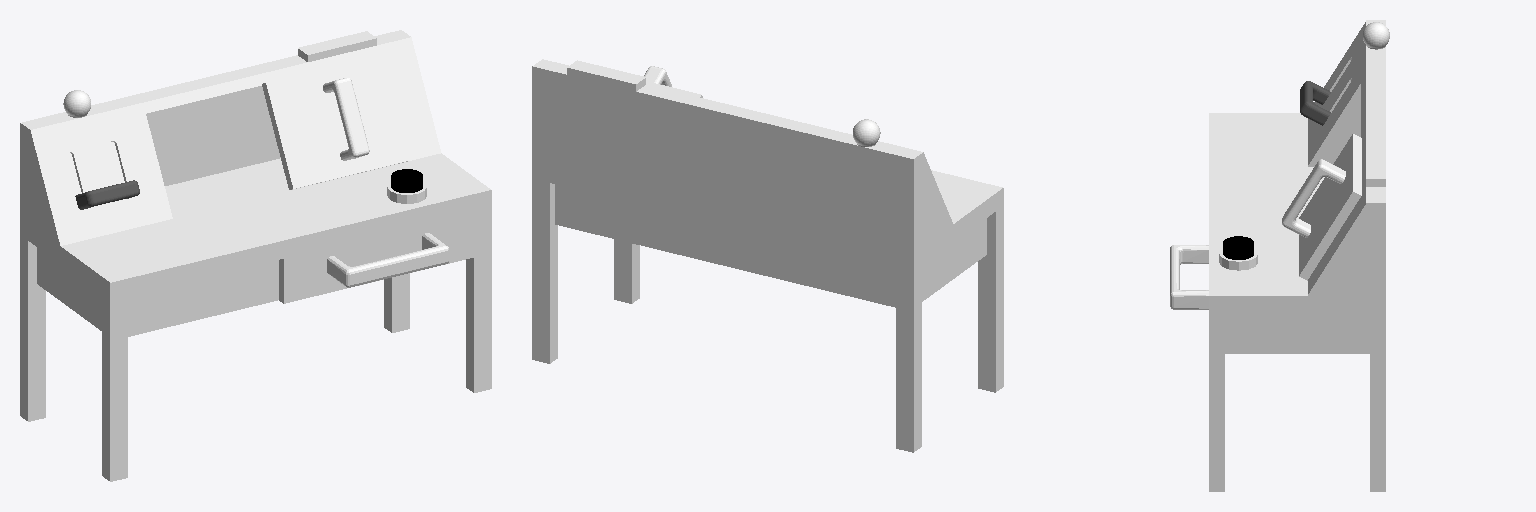
The robot description file, URDF, robot "playtable_5":
<?xml version="1.0" encoding="utf-8"?>
<robot
  name="playtable_5" concave="yes">
  <link
    name="base_link">
    <inertial>
      <origin
        xyz="-0.0591017040800947 0.501032855485917 -0.0450543406685957"
        rpy="0 0 0" />
      <mass
        value="0.0" />
        <!-- value="46.9509300649509" -->
      <inertia
        ixx="1.52184000058477"
        ixy="0.0432499304067387"
        ixz="0.0869673805899948"
        iyy="6.35510203625352"
        iyz="0.279082713309663"
        izz="6.17644505372571" />
    </inertial>
    <visual>
      <origin
        xyz="0 0 0"
        rpy="0 0 0" />
      <geometry>
        <mesh
          filename="../meshes/base_link.obj" />
      </geometry>
      <material name="white">
       <color rgba="1 1 1 1"/>
     </material>
    </visual>
    <collision concave="yes">
      <origin
        xyz="0 0 0"
        rpy="0 0 0" />
      <geometry>
        <mesh
          filename="../meshes/base_link.obj" />
      </geometry>
    </collision>
  </link>
  <link
    name="button_link">
    <inertial>
      <origin
        xyz="-5.55111512312578E-17 0.0149999999999999 -2.77555756156289E-17"
        rpy="0 0 0" />
      <mass
        value="0.153812376319756" />
      <inertia
        ixx="7.30608787518843E-05"
        ixy="-1.78342506783922E-37"
        ixz="0"
        iyy="0.000123049901055805"
        iyz="-3.74688824324604E-37"
        izz="7.30608787518843E-05" />
    </inertial>
    <visual>
      <origin
        xyz="0 0 0"
        rpy="0 0 0" />
      <geometry>
        <mesh
          filename="../meshes/button_link.STL" />
      </geometry>
      <material
        name="black">
        <color
          rgba="0.0 0.0 0.0 1" />
      </material>
    </visual>
    <collision>
      <origin
        xyz="0 0 0"
        rpy="0 0 0" />
      <geometry>
        <mesh
          filename="../meshes/button_link.STL" />
      </geometry>
    </collision>
  </link>
  <joint
    name="base__button"
    type="prismatic">
    <origin
      xyz="0.35 -0.15 0.575"
      rpy="1.5708 0 0" />
    <parent
      link="base_link" />
    <child
      link="button_link" />
    <axis
      xyz="0 -1 0" />
    <limit
      lower="0"
      upper="0.025"
      effort="0"
      velocity="0" />
  </joint>
  <link
    name="switch_link">
    <inertial>
      <origin
        xyz="0 0.0501954388893268 -0.00999999999999979"
        rpy="0 0 0" />
      <mass
        value="0.238786703751892" />
      <inertia
        ixx="0.000149903694690068"
        ixy="1.97912940805085E-20"
        ixz="3.41521400728841E-21"
        iyy="0.000673716537106873"
        iyz="3.25260651745651E-19"
        izz="0.000767827685519096" />
    </inertial>
    <visual>
      <origin
        xyz="0 0 0"
        rpy="0 0 0" />
      <geometry>
        <mesh
          filename="../meshes/switch_link.obj" />
      </geometry>
      <material
        name="gray">
        <color
          rgba="0.4 0.4 0.4 1" />
      </material>
    </visual>
    <collision>
      <origin
        xyz="0 0 0"
        rpy="0 0 0" />
      <geometry>
        <mesh
          filename="../meshes/switch_link_vhacd2.obj" />
      </geometry>
    </collision>
  </link>
  <joint
    name="base__switch"
    type="prismatic">
    <origin
      xyz="-0.4 0.07616 0.61861"
      rpy="2.618 0 0" />
    <parent
      link="base_link" />
    <child
      link="switch_link" />
    <axis
      xyz="0 0 -1" />
    <limit
      lower="0"
      upper="0.11"
      effort="0"
      velocity="0" />
  </joint>
  <link
    name="slide_link">
    <inertial>
      <origin
        xyz="0.175 1.11022302462516E-16 0.0204147302446787"
        rpy="0 0 0" />
      <mass
        value="1.54349139995684" />
      <inertia
        ixx="0.0102407243866408"
        ixy="1.78877923663305E-19"
        ixz="-2.02912354989924E-19"
        iyy="0.0146074020666347"
        iyz="-2.29850860566927E-17"
        izz="0.0232176606837711" />
    </inertial>
    <visual>
      <origin
        xyz="0 0 0"
        rpy="0 0 0" />
      <geometry>
        <mesh
          filename="../meshes/slide_link.obj" />
      </geometry>
      <material name="white">
       <color rgba="1 1 1 1"/>
     </material>
    </visual>
    <collision>
      <origin
        xyz="0 0 0"
        rpy="0 0 0" />
      <geometry>
        <mesh
          filename="../meshes/slide_link_vhacd2.obj" />
      </geometry>
    </collision>
  </link>
  <joint
    name="base__slide"
    type="prismatic">
    <origin
      xyz="0.11 0.09375 0.66908"
      rpy="1.0472 0 0" />
    <parent
      link="base_link" />
    <child
      link="slide_link" />
    <axis
      xyz="-1 0 0" />
    <limit
      lower="0"
      upper="0.38"
      effort="0"
      velocity="0" />
  </joint>
  <link
    name="drawer_link">
    <inertial>
      <origin
        xyz="2.77555756156289E-17 0.033198054271063 0.0988554042464425"
        rpy="0 0 0" />
      <mass
        value="4.23128077824699" />
      <inertia
        ixx="0.0592167745250431"
        ixy="-1.81138408942034E-18"
        ixz="4.04617330648681E-18"
        iyy="0.16375258619816"
        iyz="-4.16732706455151E-05"
        izz="0.11199026473436" />
    </inertial>
    <visual>
      <origin
        xyz="0 0 0"
        rpy="0 0 0" />
      <geometry>
        <mesh
          filename="../meshes/drawer_link.obj" />
      </geometry>
      <material name="white">
       <color rgba="1 1 1 1"/>
     </material>
    </visual>
    <collision>
      <origin
        xyz="0 0 0"
        rpy="0 0 0" />
      <geometry>
        <mesh
          filename="../meshes/drawer_link_vhacd2.obj" />
      </geometry>
    </collision>
  </link>
  <joint
    name="base__drawer"
    type="prismatic">
    <origin
      xyz="0.225 0 0.4"
      rpy="1.5708 0 0" />
    <parent
      link="base_link" />
    <child
      link="drawer_link" />
    <axis
      xyz="0 0 1" />
    <limit
      lower="0"
      upper="0.275"
      effort="0"
      velocity="0" />
  </joint>
  <link
    name="led_link">
    <inertial>
      <origin
        xyz="0 0.01 0"
        rpy="0 0 0" />
      <mass
        value="0.204" />
      <inertia
        ixx="4.93E-05"
        ixy="-6.93943600499347E-21"
        ixz="2.24863530573492E-21"
        iyy="0.000722500000000001"
        iyz="2.15993401549847E-21"
        izz="0.000686800000000001" />
    </inertial>
    <visual>
      <origin
        xyz="0 0 0"
        rpy="0 0 0" />
      <geometry>
        <mesh
          filename="../meshes/led_link.STL" />
      </geometry>
      <material
        name="white">
        <color
          rgba="1 1 1 1" />
      </material>
    </visual>
    <collision>
      <origin
        xyz="0 0 0"
        rpy="0 0 0" />
      <geometry>
        <mesh
          filename="../meshes/led_link.STL" />
      </geometry>
    </collision>
  </link>
  <joint
    name="base__led"
    type="fixed">
    <origin
      xyz="0.35 0.2 0.80981"
      rpy="1.5708 0 0" />
    <parent
      link="base_link" />
    <child
      link="led_link" />
    <axis
      xyz="0 0 0" />
    <limit
      lower="0"
      upper="0"
      effort="0"
      velocity="0" />
  </joint>
  <link
    name="light_link">
    <inertial>
      <origin
        xyz="5.55111512312578E-17 0.0299036530848263 -0.03"
        rpy="0 0 0" />
      <mass
        value="0.115259640607692" />
      <inertia
        ixx="4.26168302144228E-05"
        ixy="4.84728797494664E-22"
        ixz="5.8461717490402E-39"
        iyy="4.10781933228919E-05"
        iyz="1.85755038209586E-38"
        izz="4.26168302144228E-05" />
    </inertial>
    <visual>
      <origin
        xyz="0 0 0"
        rpy="0 0 0" />
      <geometry>
        <mesh
          filename="../meshes/light_link.STL" />
      </geometry>
      <material
        name="white">
        <color
          rgba="1 1 1 1" />
      </material>
    </visual>
    <collision>
      <origin
        xyz="0 0 0"
        rpy="0 0 0" />
      <geometry>
        <mesh
          filename="../meshes/light_link.STL" />
      </geometry>
    </collision>
  </link>
  <joint
    name="base__light"
    type="fixed">
    <origin
      xyz="-0.4 0.17 0.80981"
      rpy="1.5708 0 0" />
    <parent
      link="base_link" />
    <child
      link="light_link" />
    <axis
      xyz="0 0 1" />
  </joint>
  <link
    name="plank_link">
    <inertial>
      <origin
        xyz="2.77555756156289E-17 0.0125 0"
        rpy="0 0 0" />
      <mass
        value="2.84375" />
      <inertia
        ixx="0.00740559895833334"
        ixy="-4.69820941410382E-20"
        ixz="2.0274580625479E-18"
        iyy="0.107381184895833"
        iyz="2.26847804048109E-34"
        izz="0.100271809895833" />
    </inertial>
    <visual>
      <origin
        xyz="0 0 0"
        rpy="0 0 0" />
      <geometry>
        <mesh
          filename="../meshes/plank_link.obj" />
      </geometry>
      <material name="white">
       <color rgba="1 1 1 1"/>
     </material>
    </visual>
    <collision>
      <origin
        xyz="0 0 0"
        rpy="0 0 0" />
      <geometry>
        <mesh
          filename="../meshes/plank_link.obj" />
      </geometry>
    </collision>
  </link>
  <joint
    name="base__plank"
    type="fixed">
    <origin
      xyz="0.1 0.1125 0.525"
      rpy="1.5708 0 0" />
    <parent
      link="base_link" />
    <child
      link="plank_link" />
    <axis
      xyz="0 0 0" />
  </joint>
</robot>

--- Render facts (derived) ---
The picture shows the robot from 3 angles, left to right: view 1: azimuth 30°, elevation 25°; view 2: azimuth 150°, elevation 25°; view 3: azimuth 270°, elevation 25°; orthographic projection.
Model playtable_5 with 8 links and 7 joints (4 prismatic, 3 fixed), rooted at base_link, posed all joints at 0.
Visible links, largest first — view 1: base_link, slide_link, drawer_link, plank_link, led_link, switch_link, button_link, light_link; view 2: base_link, led_link, light_link, slide_link; view 3: base_link, slide_link, drawer_link, switch_link, led_link, button_link, light_link.
Boxes of the visible links, x1,y1,x2,y2 form: base_link: (20,30,491,481); slide_link: (262,53,414,189); drawer_link: (279,212,473,303); plank_link: (165,158,288,218); led_link: (298,31,376,61); switch_link: (75,180,139,209); button_link: (391,169,422,192); light_link: (63,90,90,117); base_link: (532,59,1003,452); led_link: (567,60,645,91); light_link: (853,119,880,146); slide_link: (644,66,702,97); base_link: (1209,20,1385,491); slide_link: (1282,134,1361,280); drawer_link: (1170,245,1208,309); switch_link: (1300,81,1330,125); led_link: (1366,146,1385,186); button_link: (1223,236,1253,259); light_link: (1363,22,1389,49).
Bounding box of the posed robot: 1.1 × 0.5599 × 0.8718 m (x, y, z).
8 mesh visuals loaded from 8 distinct referenced files (3 binary STL, 5 OBJ).
